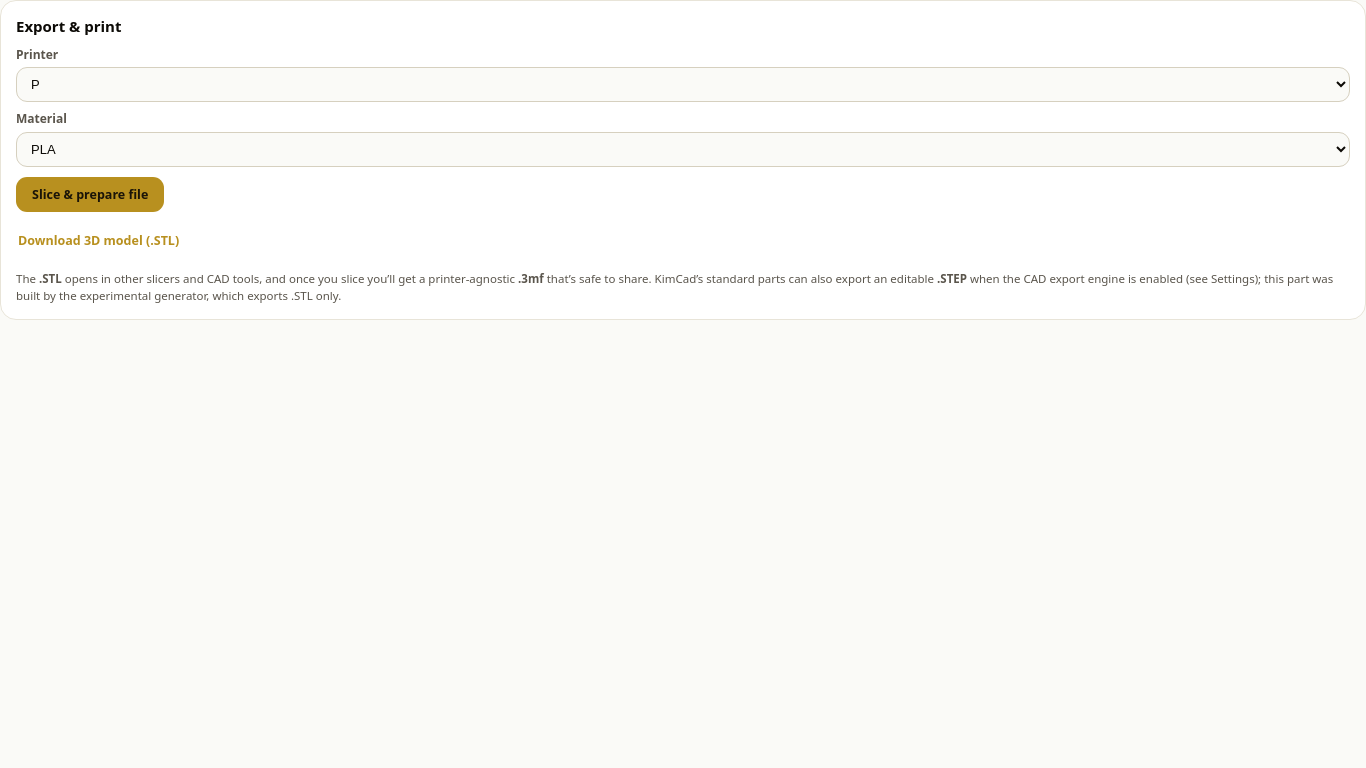
Test: ExportPanel print summary (Slice 10) › copies the absolute print-file link to the clipboard
This screenshot has width=1366, height=768.
What coordinates should you click on to do the following:
click the button "Slice & prepare file"
I would click on:
 (90, 194)
Its box is [16,176,164,212].
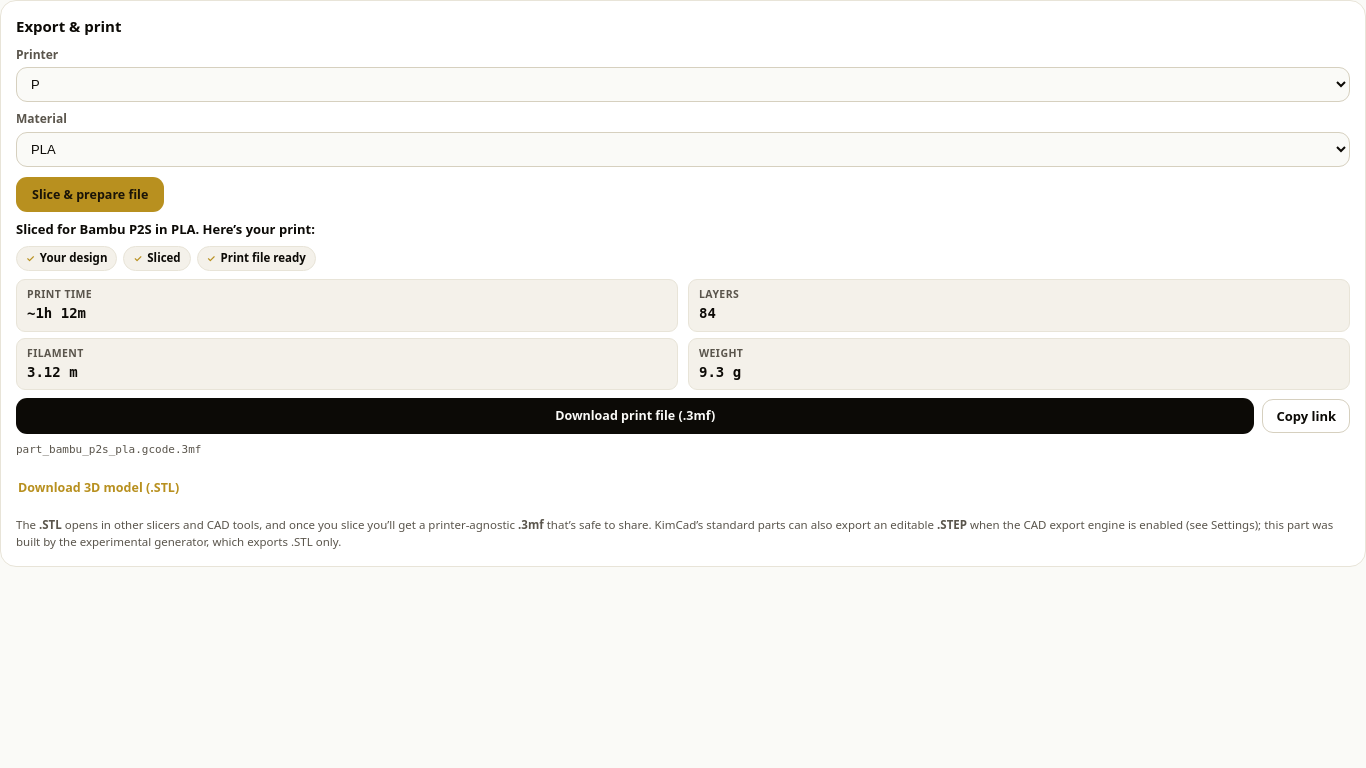
What coordinates should you click on to do the following:
click the button "Copy link"
I would click on:
 (1306, 416)
Its box is [1262,399,1350,433].
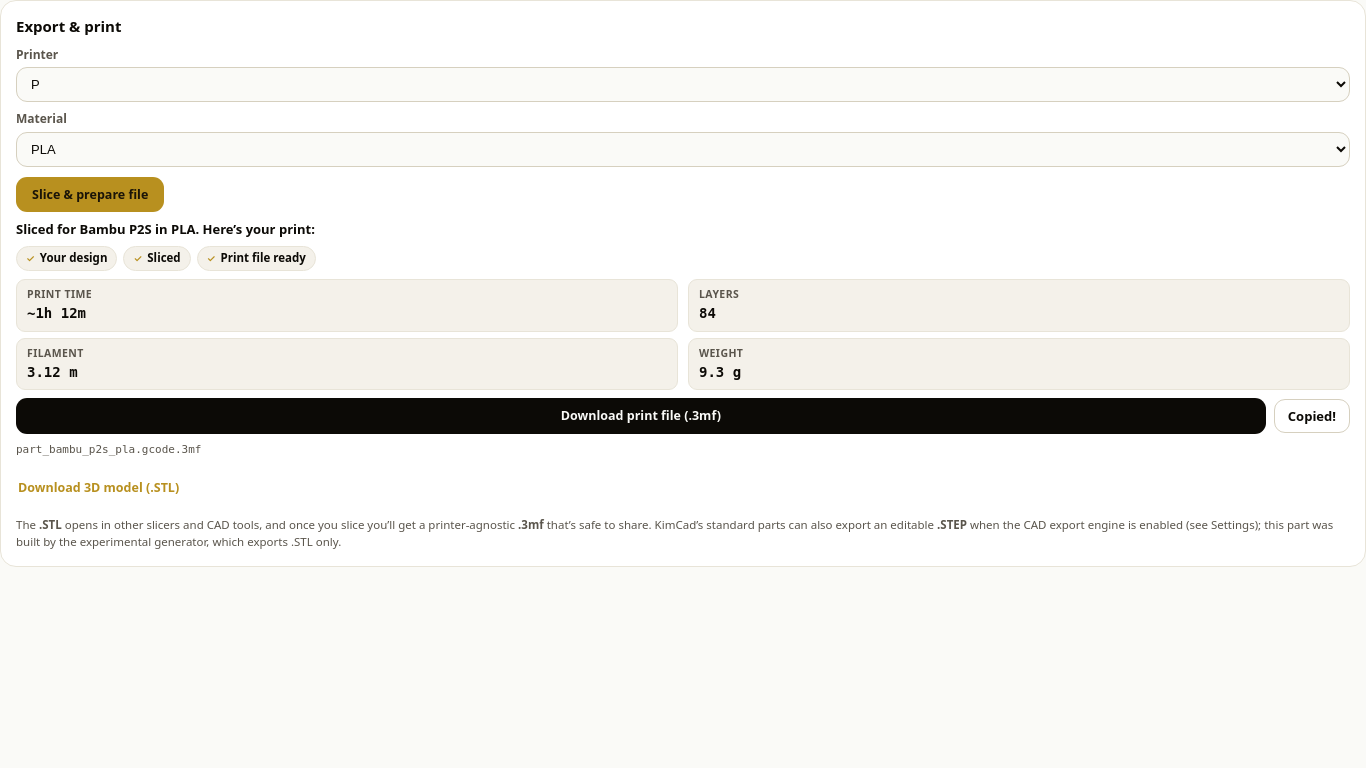
Expected: the button "Copied!" is shown, [1274,399,1350,433]
